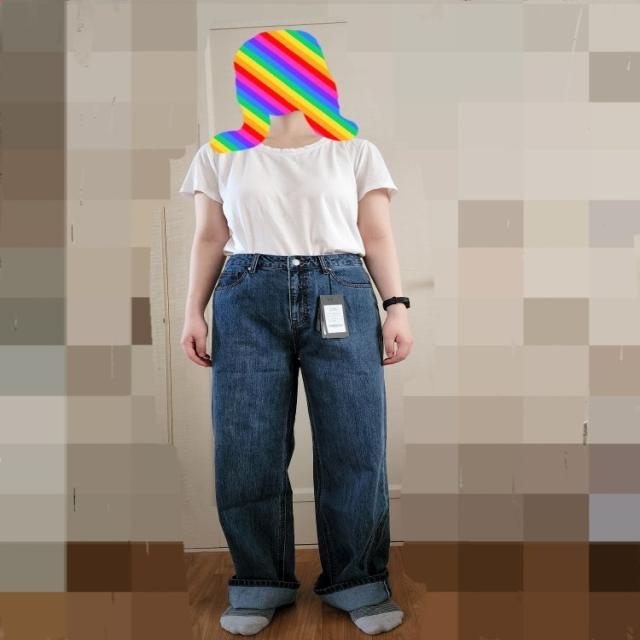denimpants: (214, 248, 393, 610)
shortsleeve: (183, 132, 401, 255)
